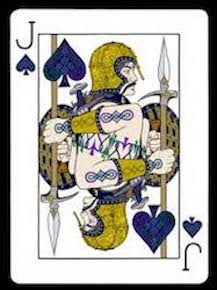JackOfSpades: (8, 5, 211, 287)
